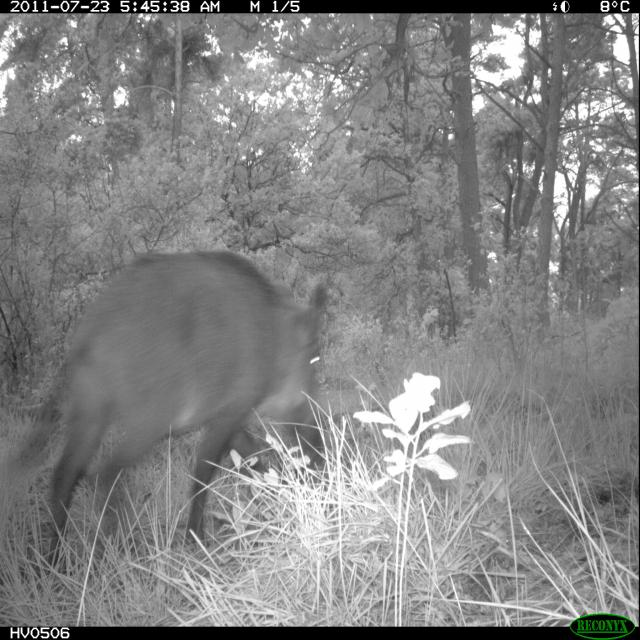boar: (13, 222, 384, 560)
